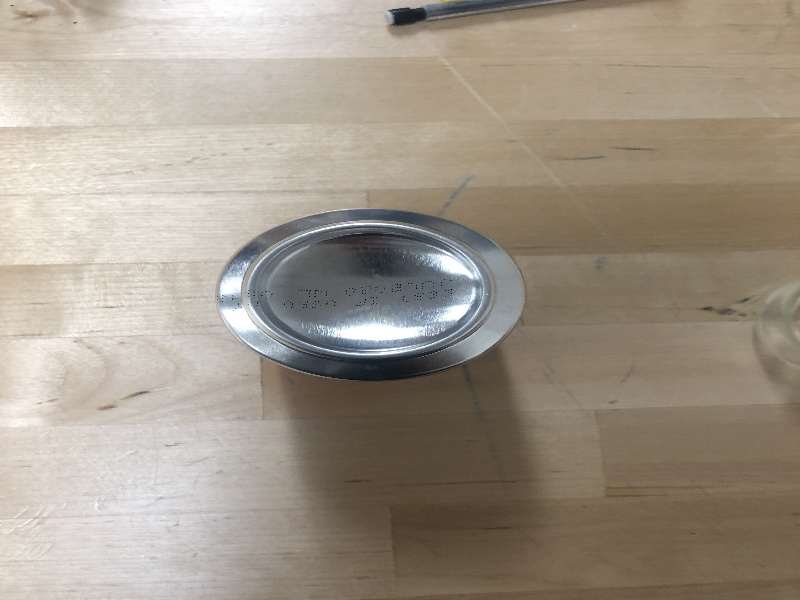metal: (218, 204, 534, 387)
